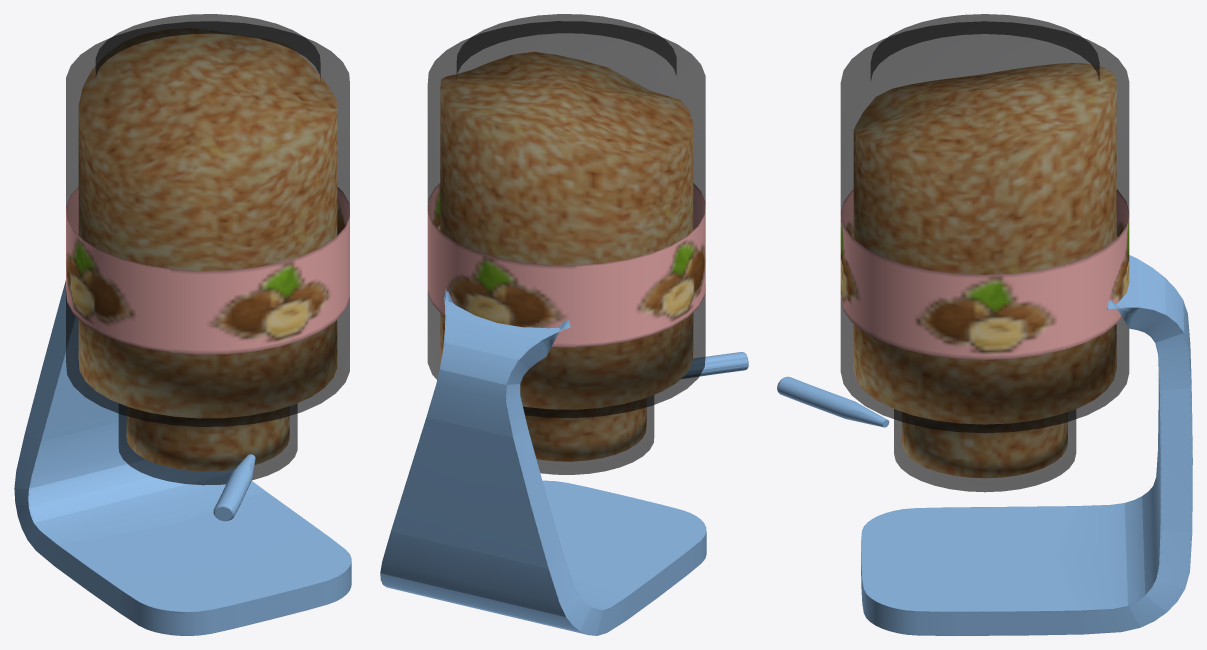
The model's file is Hazelnut.fbx.
3 renders of one model, left to right at view 1: azimuth 30°, elevation 25°; view 2: azimuth 150°, elevation 25°; view 3: azimuth 270°, elevation 25°, orthographic. The views are drawn at different scales.
Parts seen in each view (by area): view 1: Cylinder.001, Plane.001, handle.001; view 2: Cylinder.001, Plane.001, handle.001; view 3: Cylinder.001, Plane.001, handle.001.
Part boxes in pixels (box(x1,y1,x2,y2)): Cylinder.001: box(66, 14, 349, 485); Plane.001: box(14, 280, 351, 635); handle.001: box(213, 454, 255, 521); Cylinder.001: box(427, 14, 705, 474); Plane.001: box(380, 289, 706, 635); handle.001: box(681, 352, 748, 378); Cylinder.001: box(840, 14, 1129, 492); Plane.001: box(861, 236, 1192, 635); handle.001: box(777, 376, 889, 427).
Bounding box in the file's own units: 76.55 × 152 × 110.
Materials: 2 (1 with a texture image).
